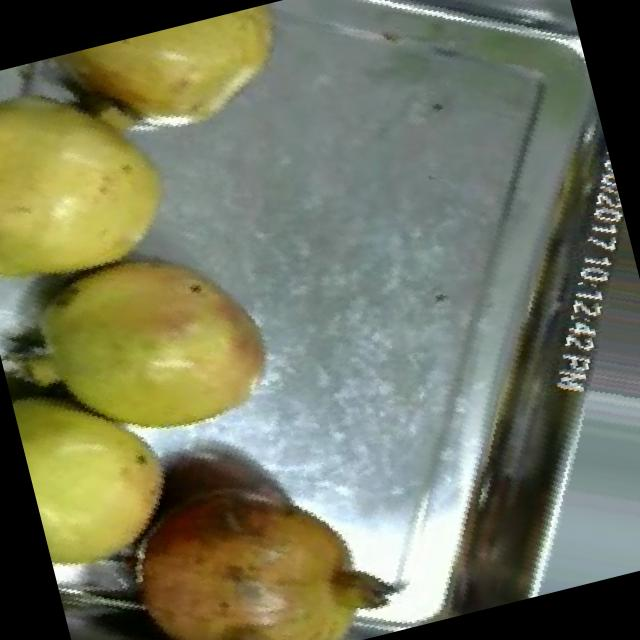fruit: (0, 191, 317, 499), (78, 420, 409, 640), (0, 33, 216, 327), (7, 350, 213, 603), (69, 0, 331, 177)
